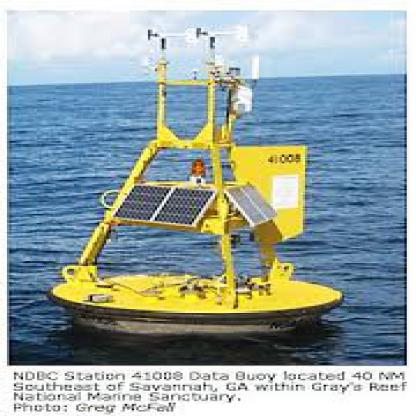buoy: (35, 21, 351, 343)
